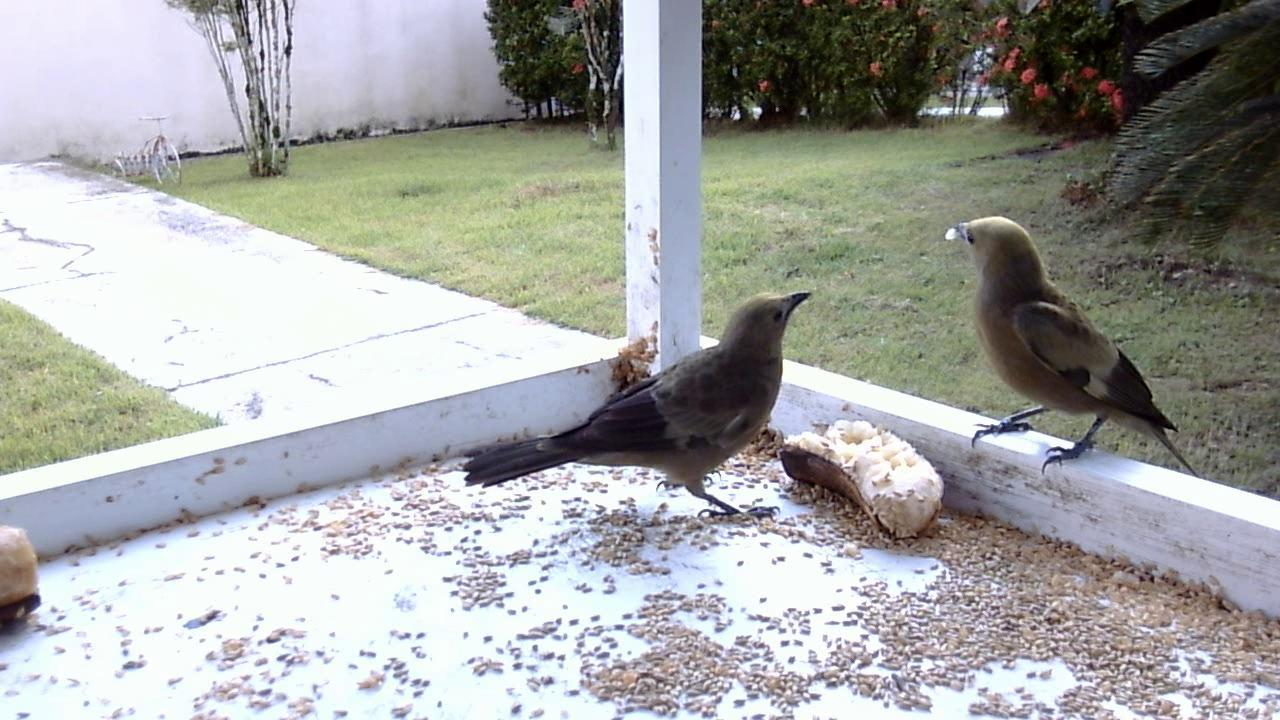sanhaco_do_coqueiro: (468, 288, 811, 534), (937, 206, 1196, 488)
